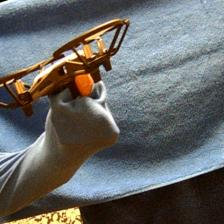drone: (0, 17, 138, 115)
